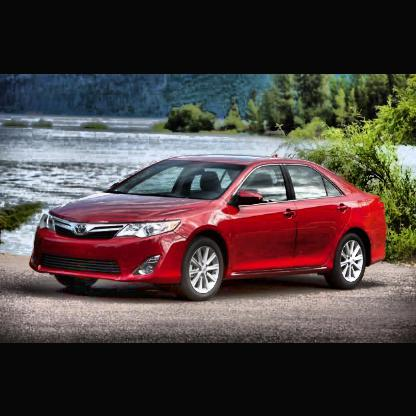Toyota Camry Sedan 2012: (29, 156, 389, 302)
